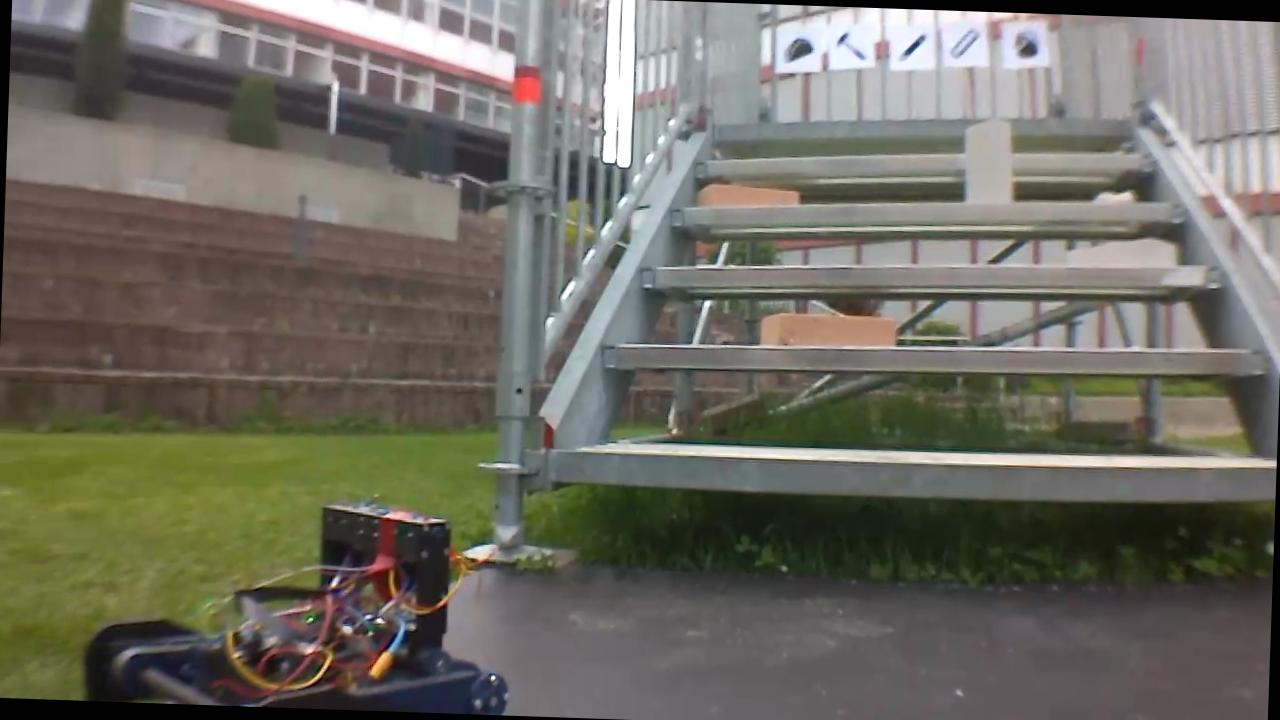brick: (761, 312, 893, 349), (963, 119, 1013, 201), (1070, 235, 1176, 264), (698, 184, 798, 208)
bucket: (1005, 26, 1040, 60)
edge: (553, 439, 1276, 506), (603, 327, 1264, 383), (638, 245, 1225, 306), (669, 186, 1184, 238), (693, 138, 1157, 188), (711, 105, 1131, 147)
hammer: (832, 29, 869, 61)
pencil: (889, 29, 930, 66)
ruler: (945, 24, 981, 63)
steps: (547, 92, 1280, 516)
taco: (782, 30, 817, 65)
